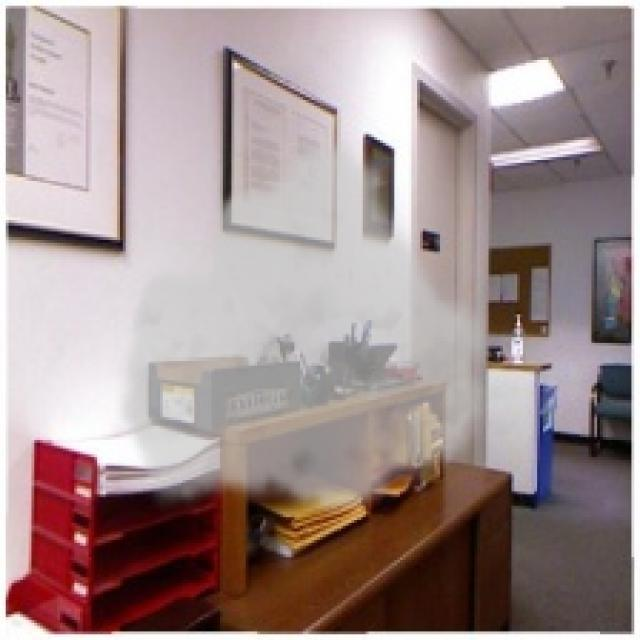Smoke: (114, 132, 500, 517)
